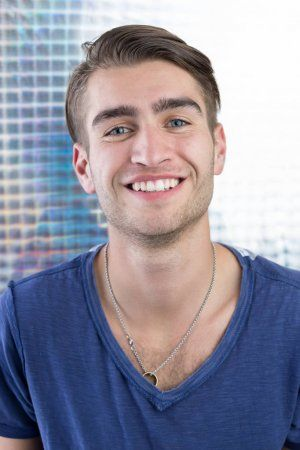NoMask: (96, 93, 208, 240)
